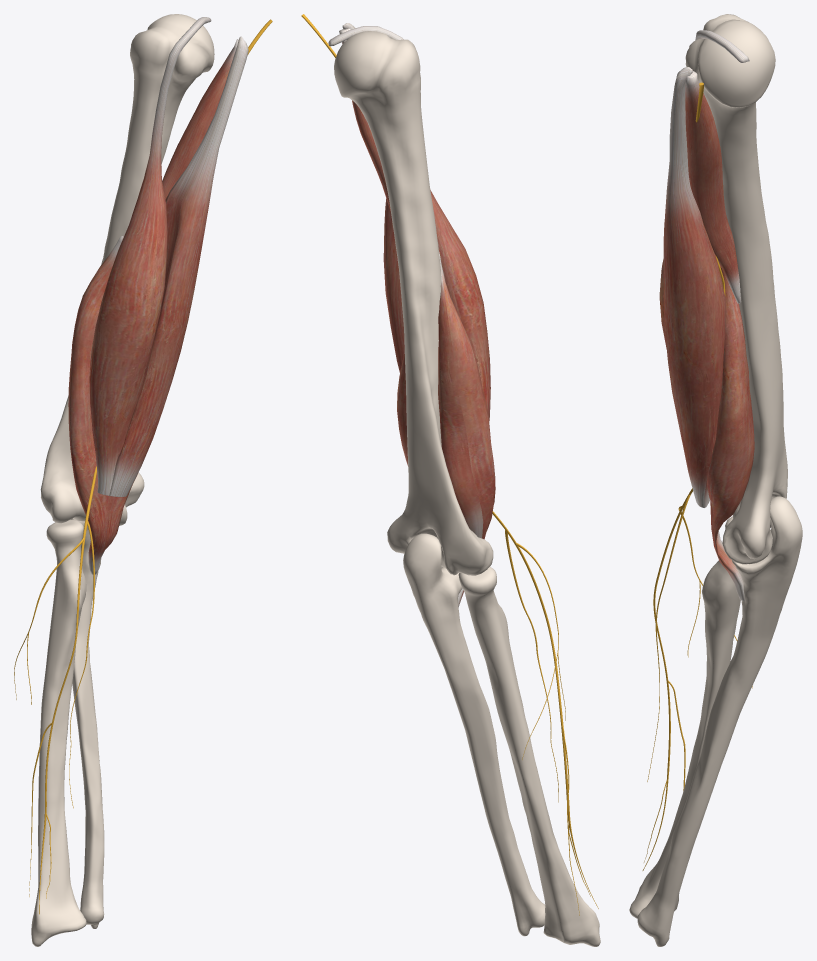
The model's file is musculocutaneous-nerve.glb.
3 views of the same model, side by side, from view 1: azimuth 30°, elevation 25°; view 2: azimuth 150°, elevation 25°; view 3: azimuth 270°, elevation 25° (orthographic). The views are drawn at different scales.
Visible parts, largest first — view 1: Long head of biceps brachii.r, Short head of biceps brachii.r, Radius.r, Humerus.r, Brachialis muscle.r, Ulna.r, Coracobrachialis muscle.r, Musculocutaneus nerve - lateral antebrachial cutaneous nerve; view 2: Humerus.r, Ulna.r, Radius.r, Brachialis muscle.r, Long head of biceps brachii.r, Musculocutaneus nerve - lateral antebrachial cutaneous nerve, Short head of biceps brachii.r, Coracobrachialis muscle.r; view 3: Humerus.r, Short head of biceps brachii.r, Ulna.r, Brachialis muscle.r, Radius.r, Coracobrachialis muscle.r, Musculocutaneus nerve - lateral antebrachial cutaneous nerve, Long head of biceps brachii.r.
Boxes of the visible parts, x1,y1,x2,y2 form: Long head of biceps brachii.r: [89, 17, 211, 495]; Short head of biceps brachii.r: [109, 36, 248, 496]; Radius.r: [31, 519, 86, 946]; Humerus.r: [40, 14, 214, 525]; Brachialis muscle.r: [68, 236, 137, 574]; Ulna.r: [71, 518, 104, 928]; Coracobrachialis muscle.r: [162, 39, 238, 199]; Musculocutaneus nerve - lateral antebrachial cutaneous nerve: [14, 513, 94, 914]; Humerus.r: [334, 31, 493, 575]; Ulna.r: [403, 533, 545, 936]; Radius.r: [458, 566, 600, 946]; Brachialis muscle.r: [397, 252, 495, 607]; Long head of biceps brachii.r: [328, 26, 490, 420]; Musculocutaneus nerve - lateral antebrachial cutaneous nerve: [501, 524, 598, 915]; Short head of biceps brachii.r: [342, 23, 404, 372]; Coracobrachialis muscle.r: [339, 28, 390, 211]; Humerus.r: [685, 14, 787, 564]; Short head of biceps brachii.r: [663, 67, 725, 507]; Ulna.r: [637, 496, 802, 946]; Brachialis muscle.r: [707, 267, 754, 601]; Radius.r: [629, 516, 740, 918]; Coracobrachialis muscle.r: [685, 71, 741, 303]; Musculocutaneus nerve - lateral antebrachial cutaneous nerve: [642, 488, 752, 870]; Long head of biceps brachii.r: [659, 30, 749, 348].
Size of the model in its own units: 0.1753 by 0.5482 by 0.0875.
Materials: 6 (2 with a texture image).
